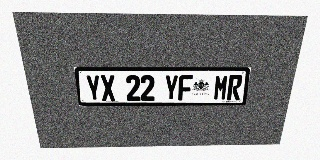2: (126, 75, 140, 101), (140, 75, 154, 101)
F: (178, 75, 193, 100)
M: (213, 75, 229, 100)
R: (227, 75, 243, 100)
X: (100, 75, 116, 101)
Y: (85, 75, 102, 101), (164, 75, 178, 101)
